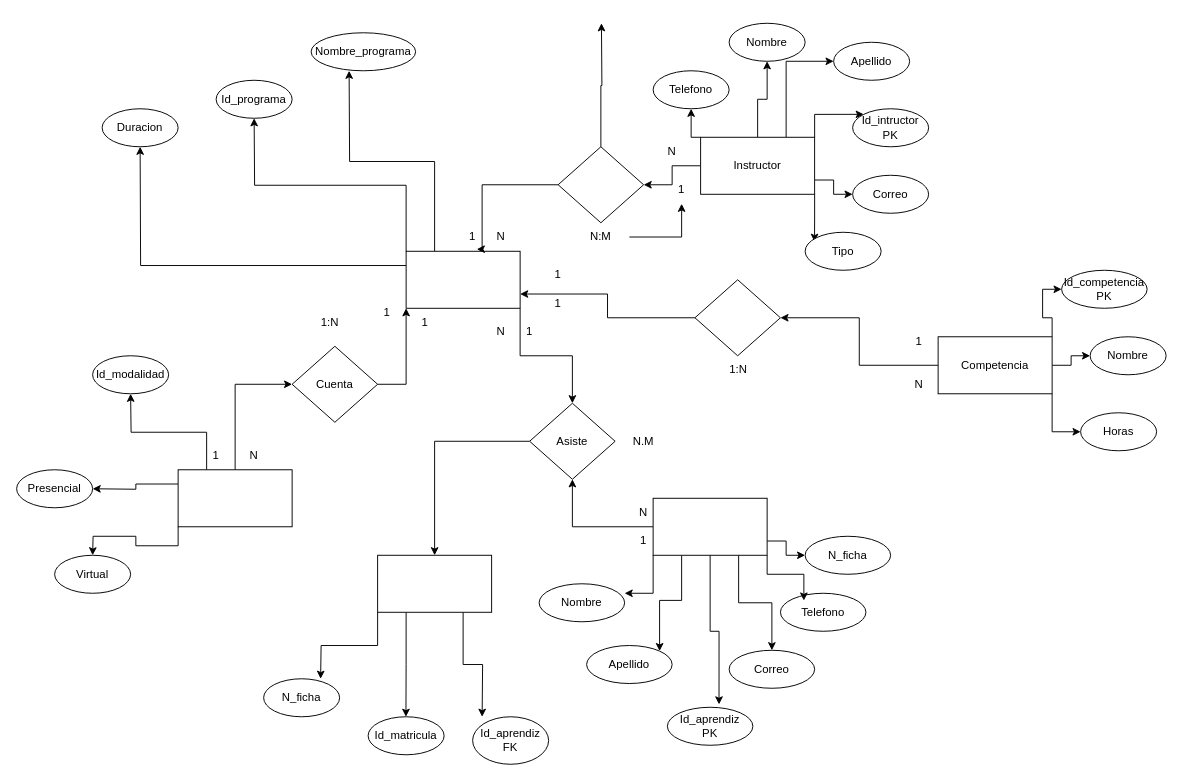
Image size: 1183x781. Some labels were removed from this diagram. Here are the shapes that lost their labels. From the top down, the centre of each, then its label:
At pixel 600 184: "Orienta".
At pixel 462 279: "ProgramaDe Formacion".
At pixel 737 317: "Tiene".
At pixel 234 498: "Modalidad".
At pixel 709 526: "Aprendiz".
At pixel 434 583: "Matricula".
